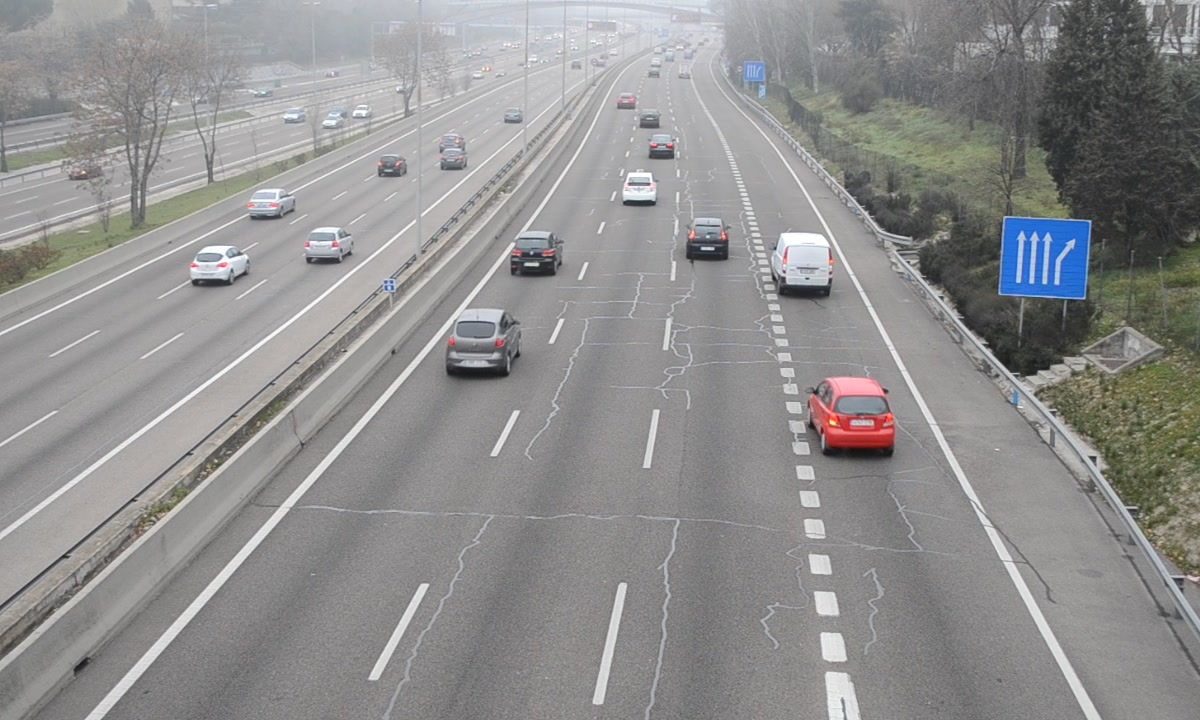car: (809, 377, 894, 451), (448, 310, 519, 376), (509, 232, 563, 277), (685, 217, 728, 259), (621, 170, 657, 205), (646, 134, 677, 159)
van: (773, 232, 833, 293)
